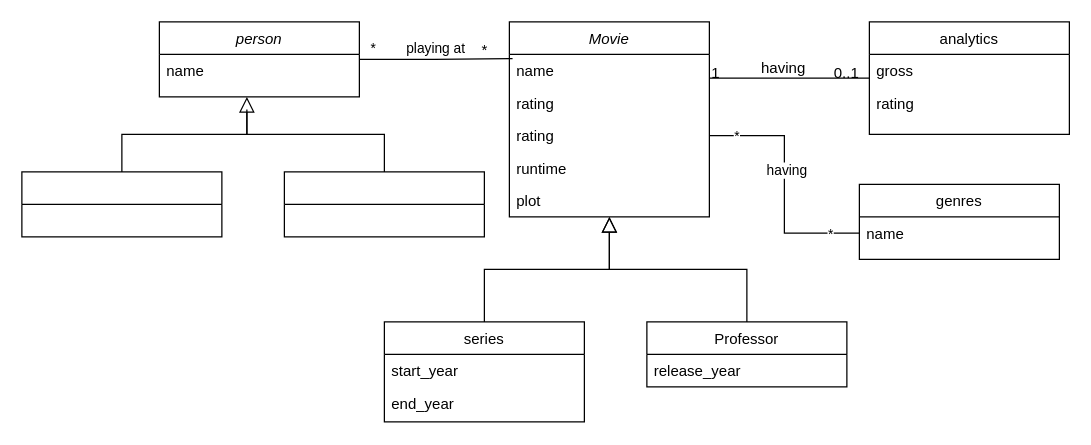
Image size: 1091x445. Some labels were removed from this diagram. Here are the shapes that lost their labels. From the top down, the centre of each, then its label:
the point at 121,204: Star
the point at 383,204: Director
